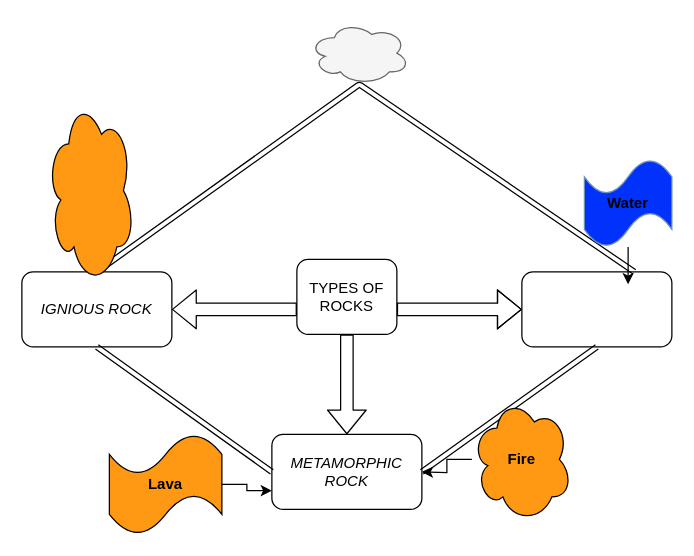
Some shapes in this 694 by 556 pixel diagram are drawn without their labels. The centre of each missing label's shape, as x and y in pixels:
Sedement: [358,52]
SEDEMENTARY ROCK: [596,309]
Volcano: [90,190]
